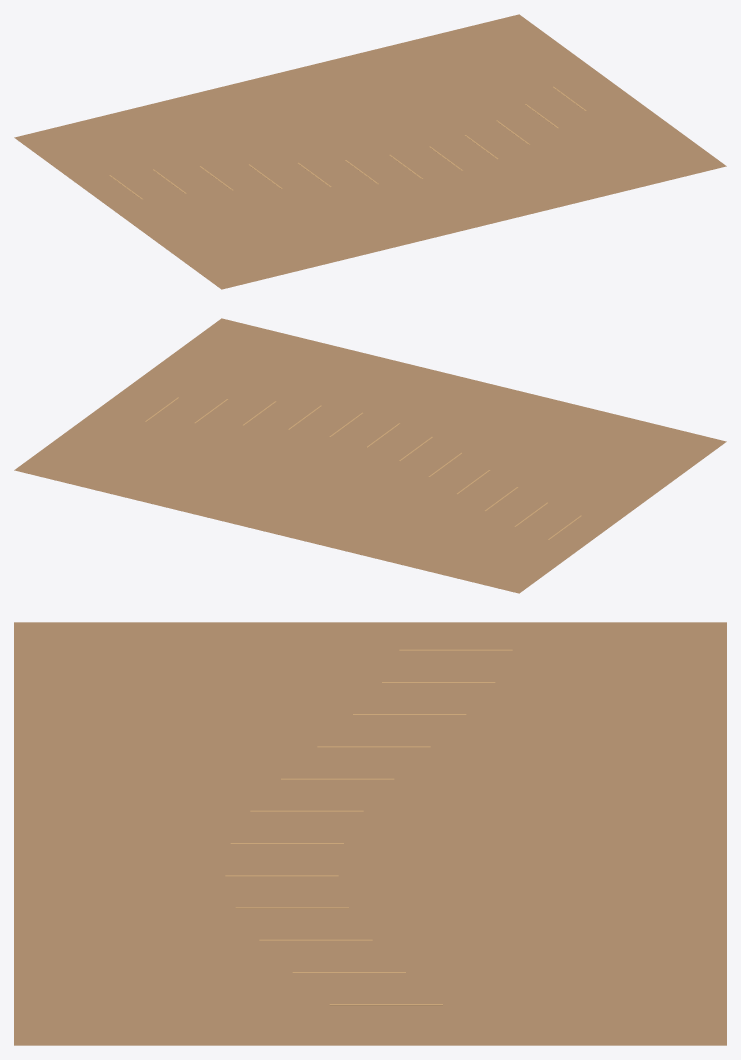
Rendered from 276_L119_L27_LayerReference.glb.
The picture shows the model from 3 angles, top to bottom: view 1: azimuth 30°, elevation 25°; view 2: azimuth 150°, elevation 25°; view 3: azimuth 270°, elevation 25°; orthographic projection. The views are drawn at different scales.
Visible parts, largest first — view 1: 0000__PSMAT__copper_dark; view 2: 0000__PSMAT__copper_dark; view 3: 0000__PSMAT__copper_dark.
Boxes of the visible parts, x1,y1,x2,y2 form: 0000__PSMAT__copper_dark: (14,14,726,289); 0000__PSMAT__copper_dark: (14,318,726,593); 0000__PSMAT__copper_dark: (14,622,726,1045).
Bounding box in the file's own units: 0.486 × 5.8e-05 × 0.346.
